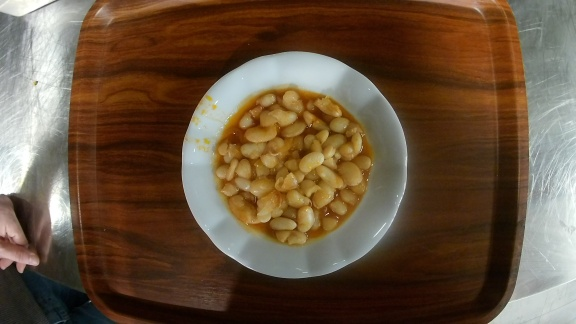kurufasulye: (181, 51, 409, 280)
